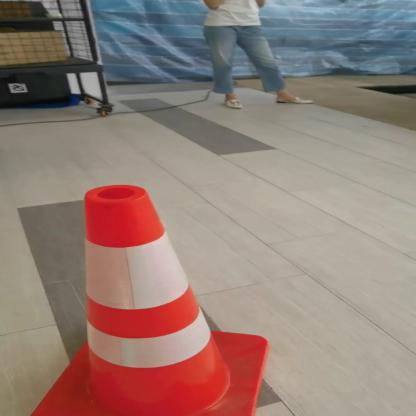cone: (19, 181, 272, 416)
